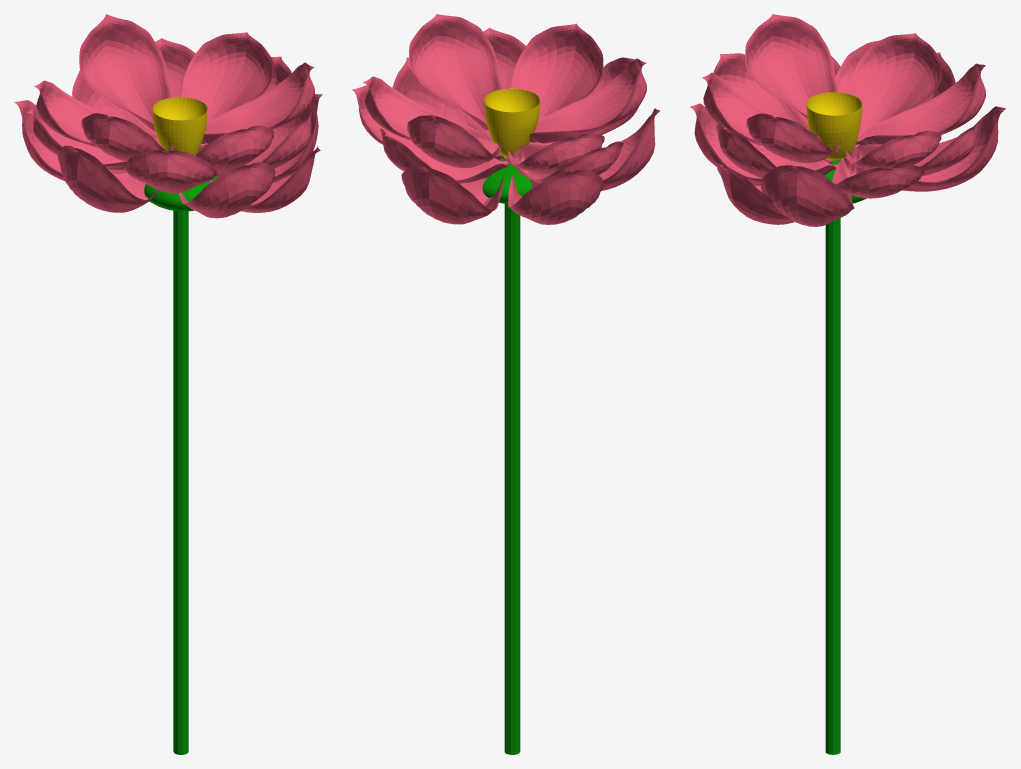
Rendered from Lotus075.fbx.
3 views of the same model, side by side, from view 1: azimuth 30°, elevation 25°; view 2: azimuth 150°, elevation 25°; view 3: azimuth 270°, elevation 25° (orthographic).
Parts seen in each view (by area): view 1: pCylinder1, nurbsToPoly23, nurbsToPoly19, nurbsToPoly22, nurbsToPoly11, nurbsToPoly8, nurbsToPoly16, pSphere3, nurbsToPoly21, nurbsToPoly18, nurbsToPoly20, nurbsToPoly24 (+7 smaller); view 2: pCylinder1, nurbsToPoly22, nurbsToPoly18, nurbsToPoly21, nurbsToPoly10, nurbsToPoly12, nurbsToPoly23, pSphere3, nurbsToPoly19, nurbsToPoly20, nurbsToPoly17, nurbsToPoly11 (+6 smaller); view 3: pCylinder1, nurbsToPoly21, nurbsToPoly20, nurbsToPoly23, nurbsToPoly9, pSphere3, nurbsToPoly22, nurbsToPoly10, nurbsToPoly15, nurbsToPoly19, nurbsToPoly18, nurbsToPoly13 (+5 smaller).
Boxes of the visible parts, <box> form: pCylinder1: <box>173,210,188,754</box>; nurbsToPoly23: <box>79,14,171,131</box>; nurbsToPoly19: <box>181,32,273,121</box>; nurbsToPoly22: <box>201,62,314,143</box>; nurbsToPoly11: <box>57,145,158,212</box>; nurbsToPoly8: <box>179,162,275,218</box>; nurbsToPoly16: <box>124,150,217,193</box>; pSphere3: <box>152,97,207,155</box>; nurbsToPoly21: <box>81,113,174,161</box>; nurbsToPoly18: <box>195,125,273,173</box>; nurbsToPoly20: <box>34,80,157,147</box>; nurbsToPoly24: <box>241,146,320,212</box>; pCylinder1: <box>504,203,520,754</box>; nurbsToPoly22: <box>409,14,501,130</box>; nurbsToPoly18: <box>511,23,603,119</box>; nurbsToPoly21: <box>529,58,646,143</box>; nurbsToPoly10: <box>401,165,504,224</box>; nurbsToPoly12: <box>508,169,603,224</box>; nurbsToPoly23: <box>407,115,502,167</box>; pSphere3: <box>484,88,539,157</box>; nurbsToPoly19: <box>363,76,492,142</box>; nurbsToPoly20: <box>507,133,604,174</box>; nurbsToPoly17: <box>380,128,509,183</box>; nurbsToPoly11: <box>599,108,659,190</box>; pCylinder1: <box>825,218,840,754</box>; nurbsToPoly21: <box>745,14,837,119</box>; nurbsToPoly20: <box>849,33,941,144</box>; nurbsToPoly23: <box>856,63,985,144</box>; nurbsToPoly9: <box>761,165,854,226</box>; pSphere3: <box>806,92,861,160</box>; nurbsToPoly22: <box>746,113,840,162</box>; nurbsToPoly10: <box>903,106,1006,191</box>; nurbsToPoly15: <box>832,157,924,198</box>; nurbsToPoly19: <box>845,130,941,170</box>; nurbsToPoly18: <box>702,72,809,146</box>; nurbsToPoly13: <box>716,123,837,178</box>.
Size of the model in its own units: 19.1 by 48.48 by 20.28.
